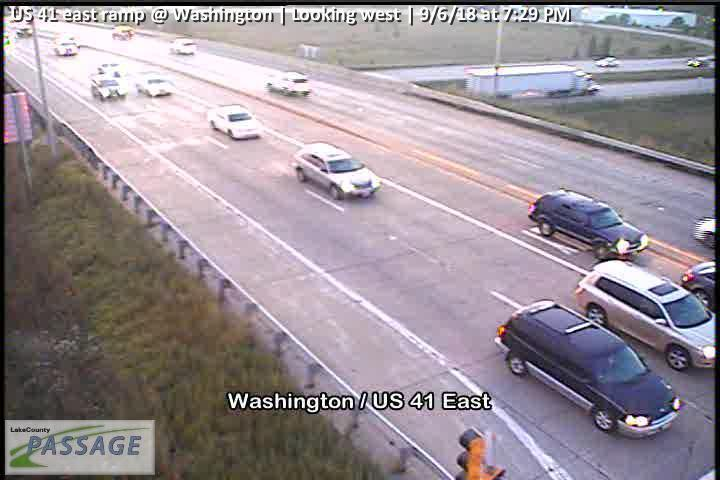SUV: (494, 298, 684, 441), (574, 258, 716, 370), (529, 187, 651, 262), (265, 70, 311, 99), (89, 74, 127, 102), (168, 36, 198, 56), (110, 24, 135, 41)
Sedan: (290, 142, 384, 203), (206, 103, 263, 143), (134, 73, 175, 97), (50, 37, 79, 56), (595, 57, 621, 68), (685, 57, 710, 68)
Truck: (466, 61, 602, 97)
